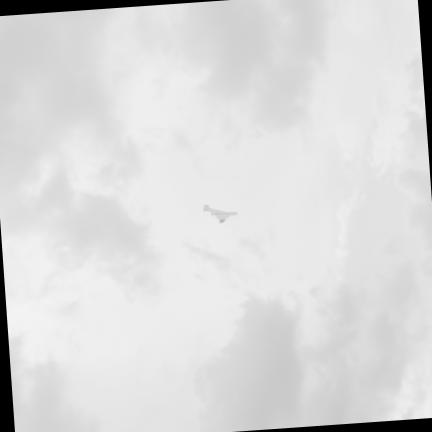Shahed: (203, 204, 236, 222)
